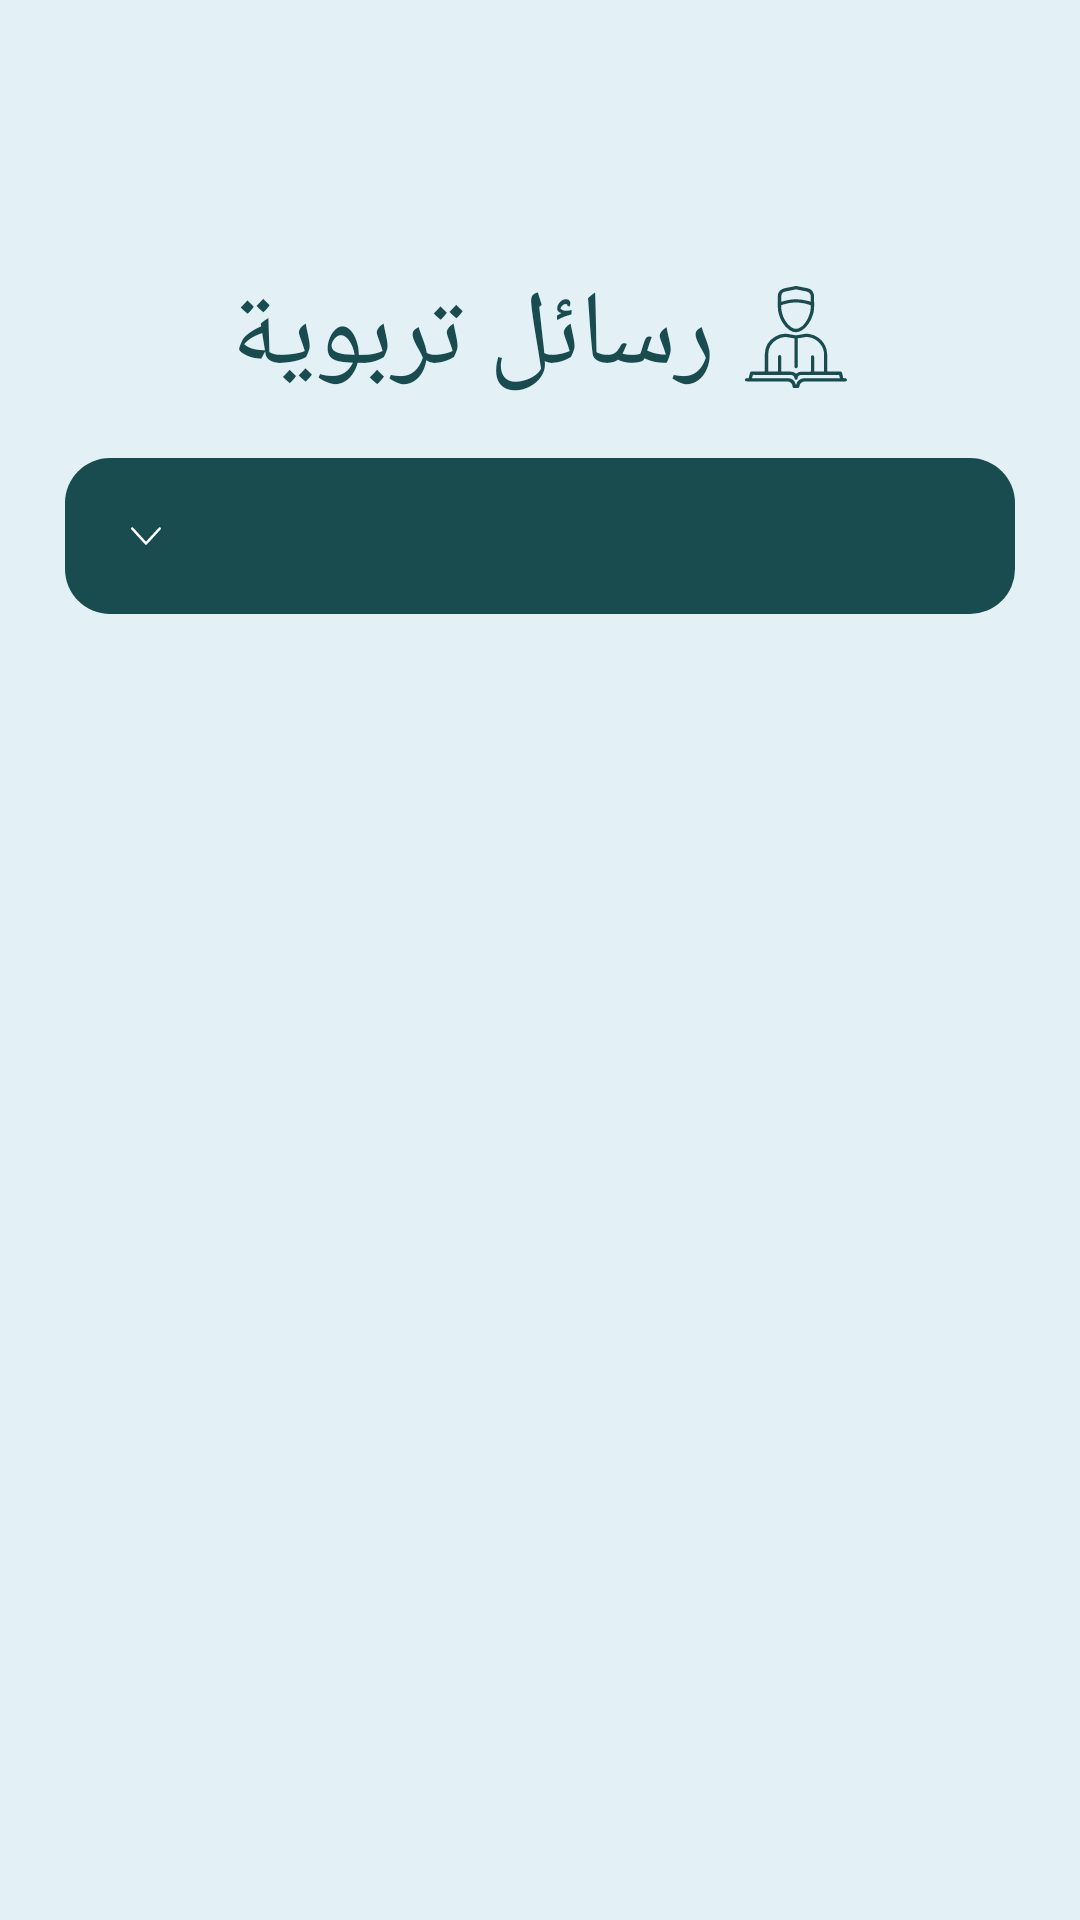

Icon bounding boxes for this 1080×1920 phone screenshot, format (x1, y1, x2, y2):
arrow down: (131, 527, 161, 545)
educational messages from surahs: (745, 286, 847, 388)
